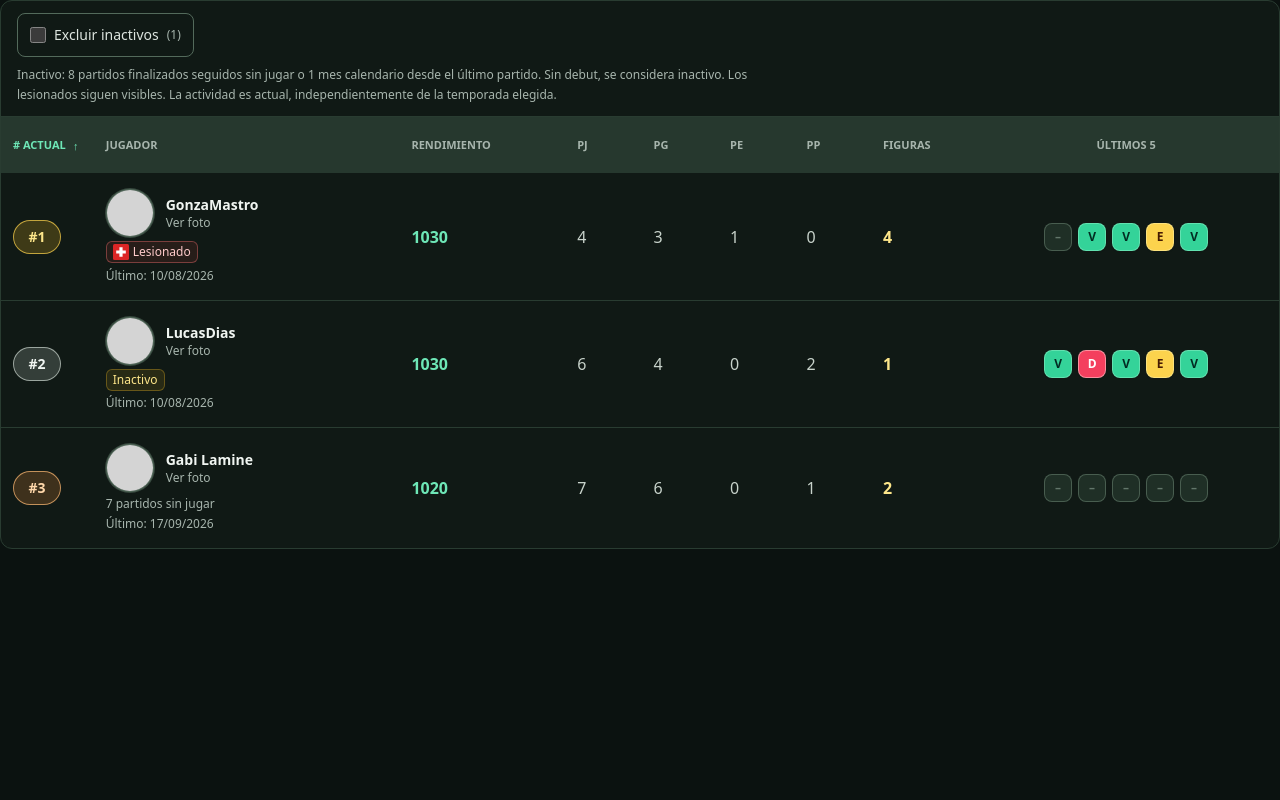
it: RankingTableQuery › filtra la inactividad por un mes aunque no haya nuevos partidos y conserva al lesionado
Step 1. Click the checkbox labelled "Excluir inactivos" → x=38, y=35, box [30, 27, 46, 43]
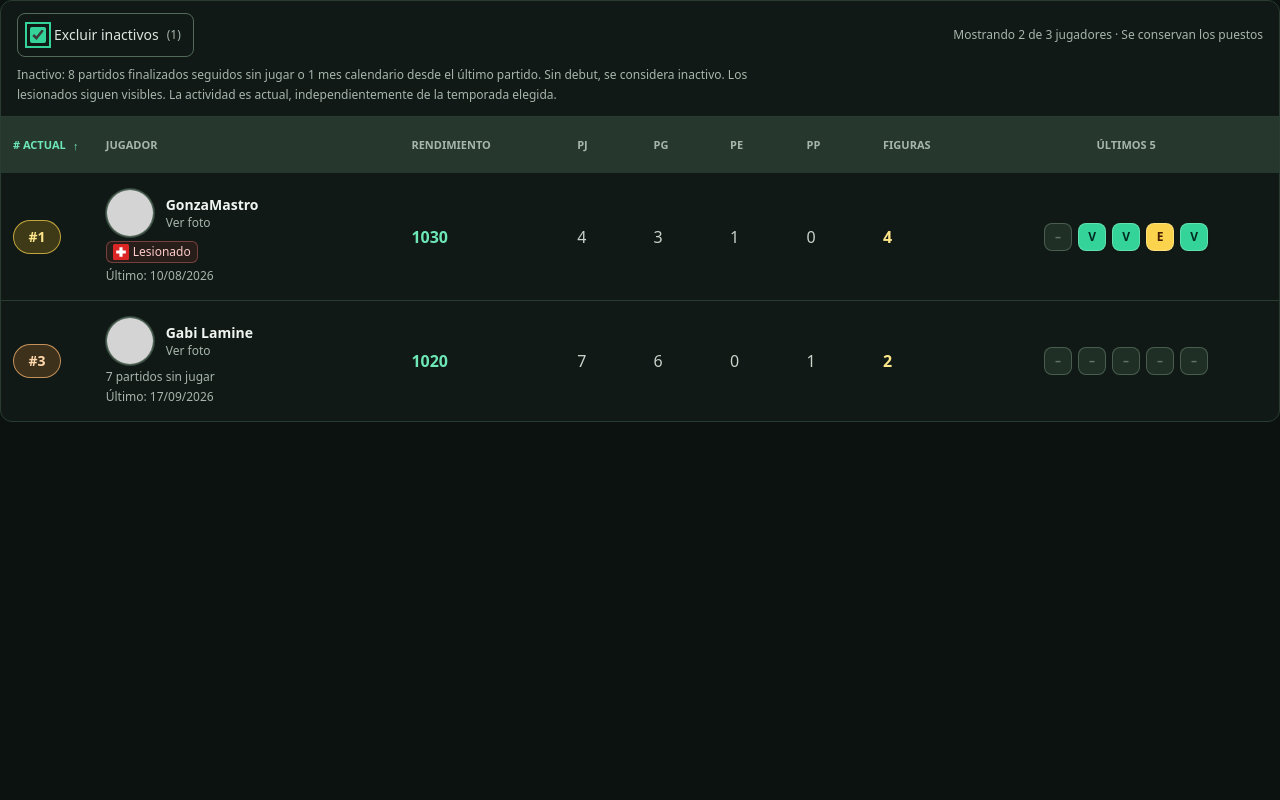
Expected: the row that starts with "GonzaMastro" is shown, [106, 189, 258, 237]
Result: the button "LucasDias" is gone
